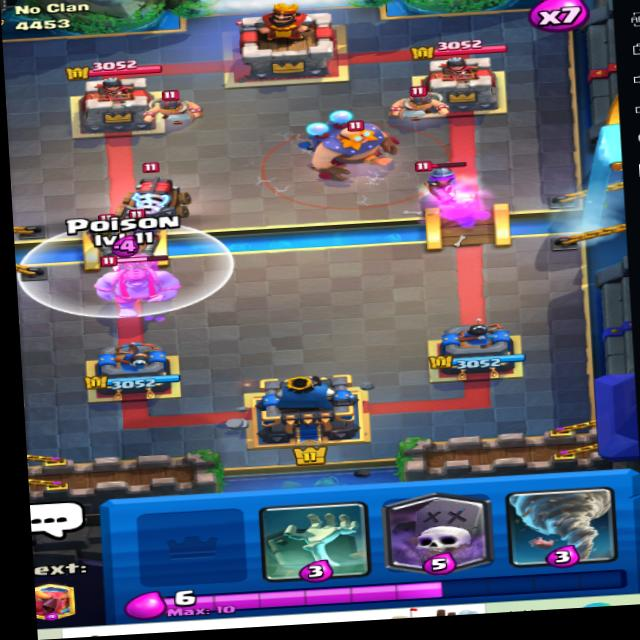electro-barbarians: (386, 81, 445, 122), (144, 81, 200, 119)
electro-giant: (285, 109, 406, 182)
goblin-giant: (90, 246, 182, 315)
musketeer: (415, 157, 477, 207), (80, 207, 145, 253), (118, 210, 172, 259)
sparky: (111, 159, 207, 228)
